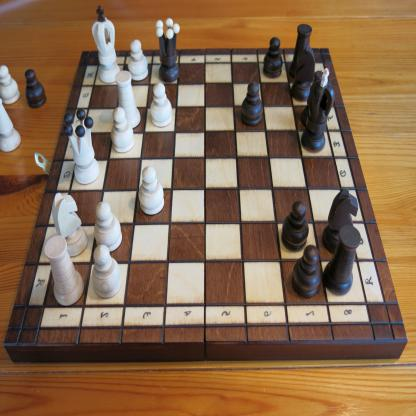black-bishop: (301, 70, 324, 127)
black-king: (301, 68, 335, 154)
black-knight: (322, 188, 358, 254), (290, 44, 316, 102)
black-pawn: (292, 244, 323, 299), (281, 200, 309, 253), (240, 81, 262, 127), (24, 68, 47, 109), (263, 36, 283, 79)
black-queen: (155, 17, 181, 83)
black-rook: (322, 225, 362, 296), (288, 23, 312, 80)
white-bishop: (1, 97, 22, 154)
white-king: (91, 5, 121, 84)
white-knight: (54, 194, 90, 262)
white-pawn: (92, 244, 122, 299), (94, 201, 123, 253), (138, 166, 165, 216), (111, 107, 135, 153), (150, 82, 173, 129), (1, 64, 21, 106), (128, 39, 146, 78)
white-queen: (63, 108, 100, 185)
white-rook: (44, 234, 85, 307), (115, 70, 141, 130)
